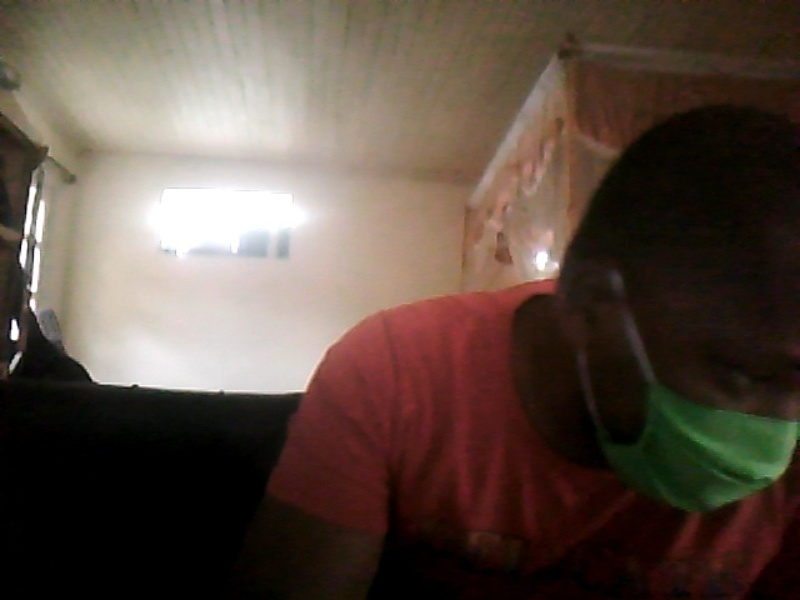ManaoArotava: (568, 156, 800, 527)
